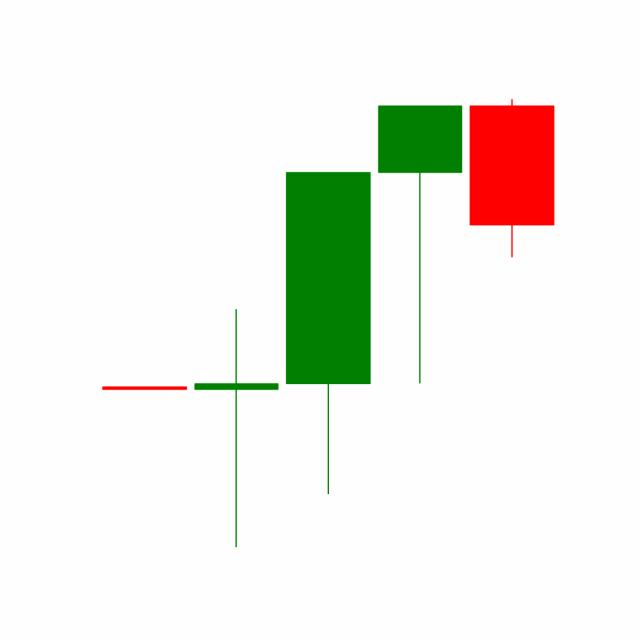Hanging Man: (373, 102, 467, 386)
